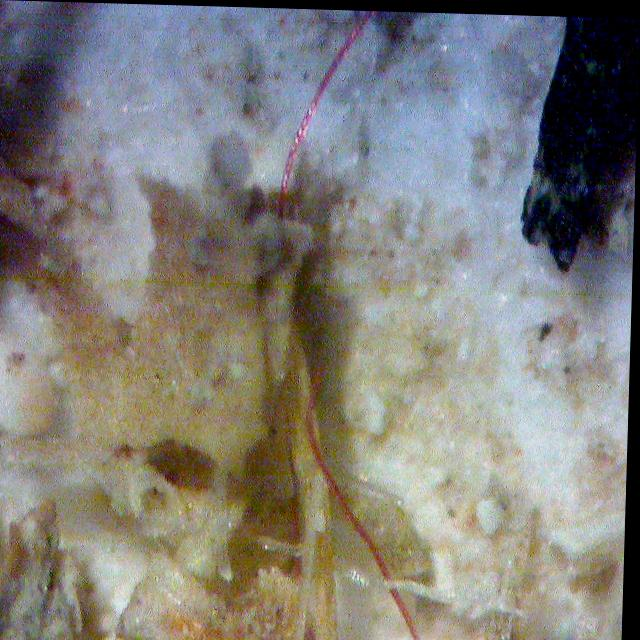microplastic: (287, 359, 426, 640), (257, 0, 377, 217)
